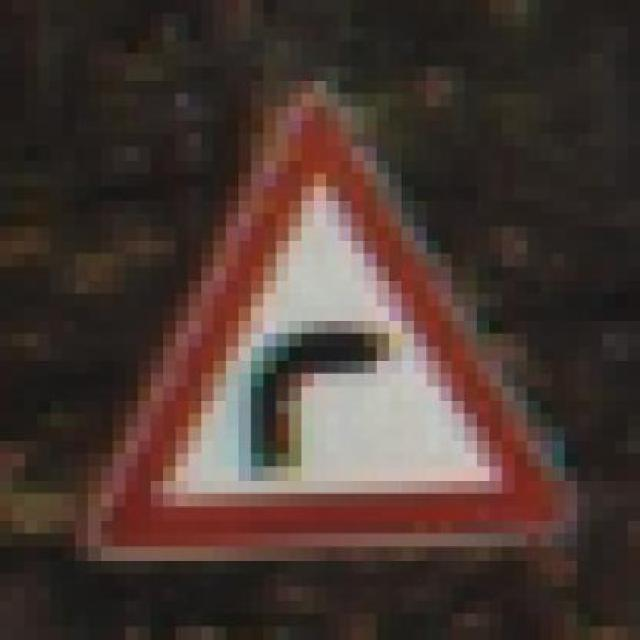Dangerous Rright Curve Ahead: (62, 66, 578, 560)
